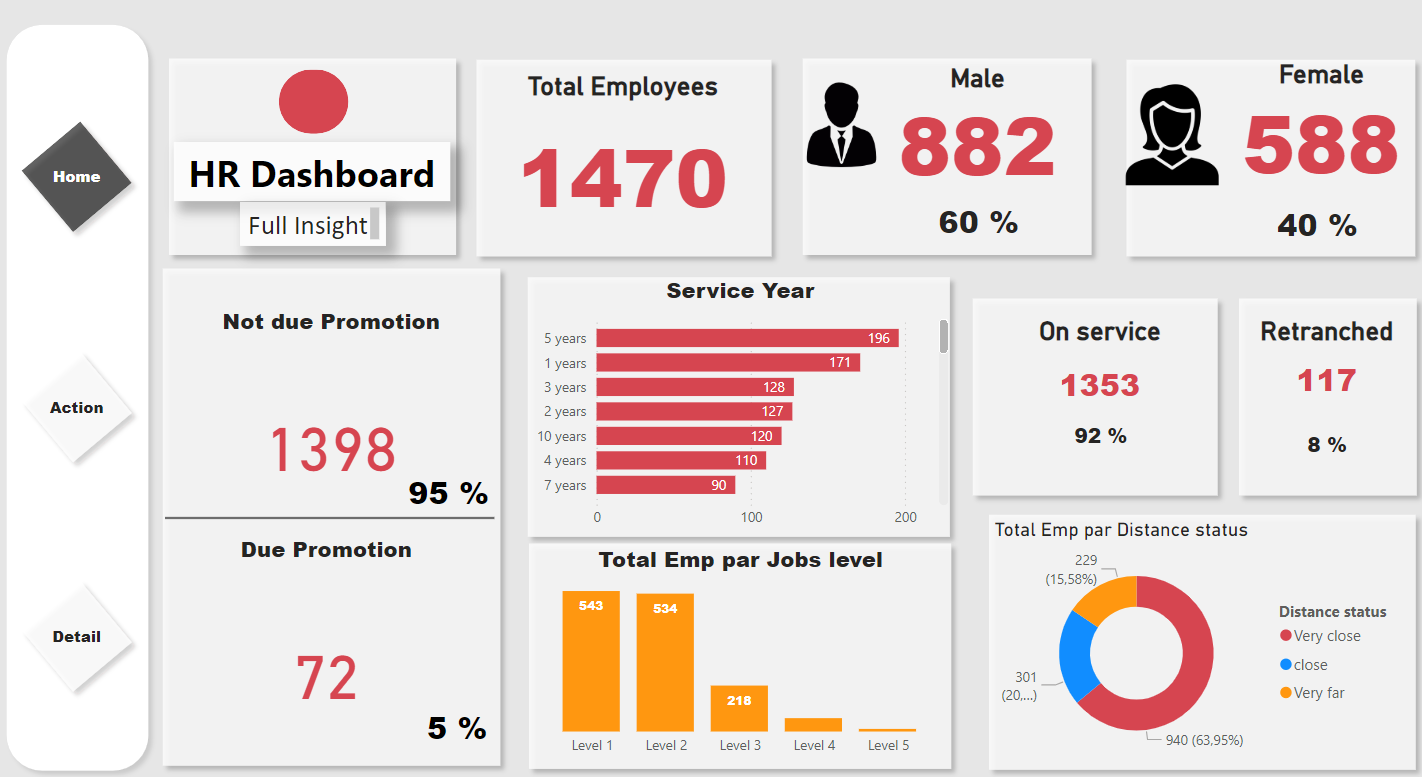

Layout of this report page (visuals, bound fields, positions):
{"tool":"powerbi","page":{"name":"Home","canvas":[1280,720],"ordinal":0},"visuals":[{"type":"shape","box":[10.1,46.3,142.8,673.8],"z":0},{"type":"shape","box":[152.3,75.5,270.3,190.7],"z":1000},{"type":"shape","box":[422.6,76.8,277.2,190.7],"z":2000},{"type":"shape","box":[709.4,75.5,271.7,190.7],"z":3000},{"type":"shape","box":[994.9,76.8,271.7,190.7],"z":4000},{"type":"shape","box":[147.7,260.6,314.6,455.1],"z":5000},{"type":"shape","box":[468.3,267.8,389,246.2],"z":6000},{"type":"shape","box":[469.5,501.9,389,216.1],"z":7000},{"type":"shape","box":[859.7,286.6,233.2,191],"z":8000},{"type":"shape","box":[873.5,476.4,393.1,242.2],"z":9000},{"type":"shape","box":[1092.9,286.6,174.2,191],"z":10000},{"type":"textbox","box":[166,157.8,242.9,52.1],"z":11000},{"type":"textbox","box":[223.7,211.3,127.6,38.4],"z":12000},{"type":"shape","box":[258.4,94.9,61.3,56.5],"z":13000},{"type":"card","title":"Total Employees","fields":{"Values":["All MEASURES.Total Emp"]},"box":[458,95.5,205.1,151.7],"z":14000},{"type":"card","title":"Male","fields":{"Values":["All MEASURES.Male"]},"box":[769.2,87.7,206.7,111.8],"z":15000},{"type":"card","title":"On service","fields":{"Values":["All MEASURES.On Service"]},"box":[882.6,311,195.7,97.3],"z":16000},{"type":"card","fields":{"Values":["All MEASURES.% male"]},"box":[831.6,207.9,84.3,42.1],"z":17000},{"type":"card","fields":{"Values":["All MEASURES.% Female"]},"box":[1129.4,210.7,84.3,42.1],"z":18000},{"type":"image","box":[710.8,101.1,84.3,84.3],"z":19000},{"type":"image","box":[994.6,101.1,98.3,101.1],"z":20000},{"type":"card","title":"Not due Promotion","fields":{"Values":["All MEASURES.Not due"]},"box":[151.9,302.1,305.5,213.3],"z":21000},{"type":"card","title":"Due Promotion","fields":{"Values":["All MEASURES.due for promotion"]},"box":[146.8,501.8,305.5,213.3],"z":22000},{"type":"card","fields":{"Values":["All MEASURES.% due for promotion"]},"box":[382.2,639.4,66.1,68.5],"z":23000},{"type":"card","fields":{"Values":["All MEASURES.% Not due"]},"box":[366.2,433.5,84.1,68.4],"z":24000},{"type":"shape","box":[158.6,343.7,289.7,289.7],"z":25000},{"type":"barChart","title":"Service Year","fields":{"Category":["HR Analytics Data.Service year"],"Y":["All MEASURES.Total Emp"]},"box":[475.9,275.2,376.2,232],"z":26000},{"type":"columnChart","fields":{"Category":["HR Analytics Data.Jobs level"],"Y":["All MEASURES.Total Emp"]},"box":[476.7,511.5,374.6,195.7],"z":27000},{"type":"card","title":"Female","fields":{"Values":["All MEASURES.Female"]},"box":[1092.9,84.3,163,115.2],"z":28000},{"type":"card","fields":{"Values":["All MEASURES.% On Services"]},"box":[931.8,391.4,98.5,55.2],"z":29000},{"type":"card","title":"Retranched","fields":{"Values":["All MEASURES.Will be retranshed service"]},"box":[1103.3,311.3,152.6,87.7],"z":30000},{"type":"card","fields":{"Values":["All MEASURES.% Will be retranched"]},"box":[1131.1,398.6,98.5,55.2],"z":31000},{"type":"donutChart","fields":{"Category":["HR Analytics Data.Distance status"],"Y":["All MEASURES.Total Emp"]},"box":[882.6,488.7,371,218.5],"z":32000},{"type":"pageNavigator","box":[23.1,97.8,115.6,586.5],"z":33000}]}

Visuals, with their boxes in screenshot pixels (x1, y1, x2, y2), scaled from the page's 1280x720 canvas onto the 1422x777 screenshot:
shape: {"left": 11, "top": 50, "right": 170, "bottom": 776}
shape: {"left": 169, "top": 81, "right": 469, "bottom": 287}
shape: {"left": 469, "top": 83, "right": 777, "bottom": 289}
shape: {"left": 788, "top": 81, "right": 1090, "bottom": 287}
shape: {"left": 1105, "top": 83, "right": 1407, "bottom": 289}
shape: {"left": 164, "top": 281, "right": 514, "bottom": 772}
shape: {"left": 520, "top": 289, "right": 952, "bottom": 555}
shape: {"left": 522, "top": 542, "right": 954, "bottom": 775}
shape: {"left": 955, "top": 309, "right": 1214, "bottom": 515}
shape: {"left": 970, "top": 514, "right": 1407, "bottom": 775}
shape: {"left": 1214, "top": 309, "right": 1408, "bottom": 515}
textbox: {"left": 184, "top": 170, "right": 454, "bottom": 227}
textbox: {"left": 249, "top": 228, "right": 390, "bottom": 269}
shape: {"left": 287, "top": 102, "right": 355, "bottom": 163}
"Total Employees" card: {"left": 509, "top": 103, "right": 737, "bottom": 267}
"Male" card: {"left": 855, "top": 95, "right": 1084, "bottom": 215}
"On service" card: {"left": 981, "top": 336, "right": 1198, "bottom": 441}
card - All MEASURES.% male: {"left": 924, "top": 224, "right": 1018, "bottom": 270}
card - All MEASURES.% Female: {"left": 1255, "top": 227, "right": 1348, "bottom": 273}
image: {"left": 790, "top": 109, "right": 883, "bottom": 200}
image: {"left": 1105, "top": 109, "right": 1214, "bottom": 218}
"Not due Promotion" card: {"left": 169, "top": 326, "right": 508, "bottom": 556}
"Due Promotion" card: {"left": 163, "top": 542, "right": 502, "bottom": 772}
card - All MEASURES.% due for promotion: {"left": 425, "top": 690, "right": 498, "bottom": 764}
card - All MEASURES.% Not due: {"left": 407, "top": 468, "right": 500, "bottom": 542}
shape: {"left": 176, "top": 371, "right": 498, "bottom": 684}
"Service Year" barChart: {"left": 529, "top": 297, "right": 947, "bottom": 547}
columnChart - HR Analytics Data.Jobs level x All MEASURES.Total Emp: {"left": 530, "top": 552, "right": 946, "bottom": 763}
"Female" card: {"left": 1214, "top": 91, "right": 1395, "bottom": 215}
card - All MEASURES.% On Services: {"left": 1035, "top": 422, "right": 1145, "bottom": 482}
"Retranched" card: {"left": 1226, "top": 336, "right": 1395, "bottom": 431}
card - All MEASURES.% Will be retranched: {"left": 1257, "top": 430, "right": 1366, "bottom": 490}
donutChart - HR Analytics Data.Distance status x All MEASURES.Total Emp: {"left": 981, "top": 527, "right": 1393, "bottom": 763}
pageNavigator: {"left": 26, "top": 106, "right": 154, "bottom": 738}
